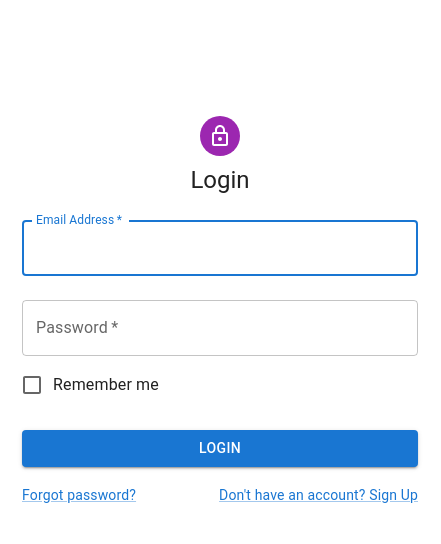
Test: should show an error message when credentials are not correct
Expected: the button "Login" is enabled, x1=22 y1=430 x2=418 y2=466
In the field labelled "Email Address *": (220, 248) x1=22 y1=220 x2=418 y2=276, type "bruce_wayne@live.com"
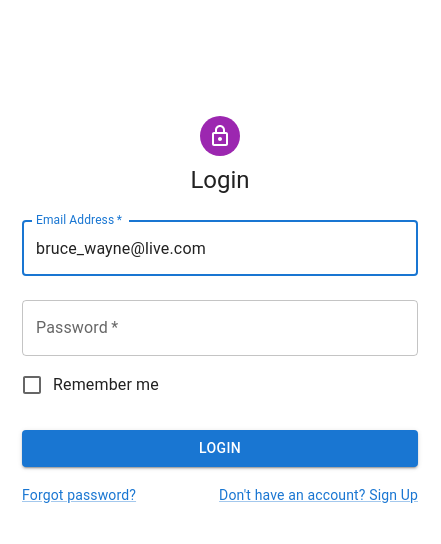
In the password field labelled "Password *": (220, 328) x1=22 y1=300 x2=418 y2=356, type "batman123"
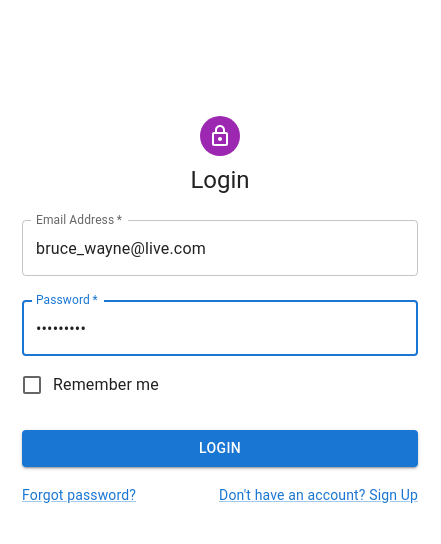
Click the button "Login": (220, 448) x1=22 y1=430 x2=418 y2=466
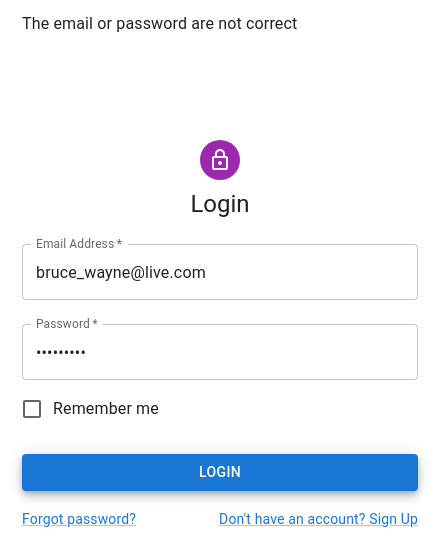
Expected: the text "The email or password are not correct" is shown, x1=22 y1=14 x2=297 y2=33
